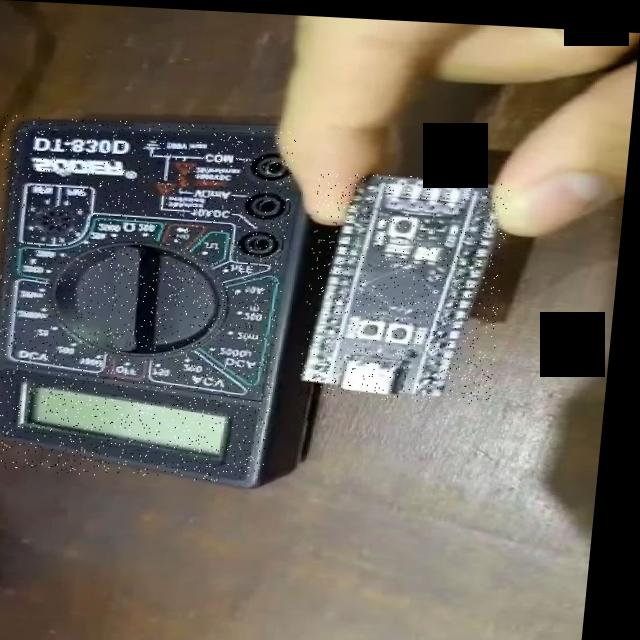multimeter: (0, 115, 300, 481)
stm32: (305, 168, 514, 399)
